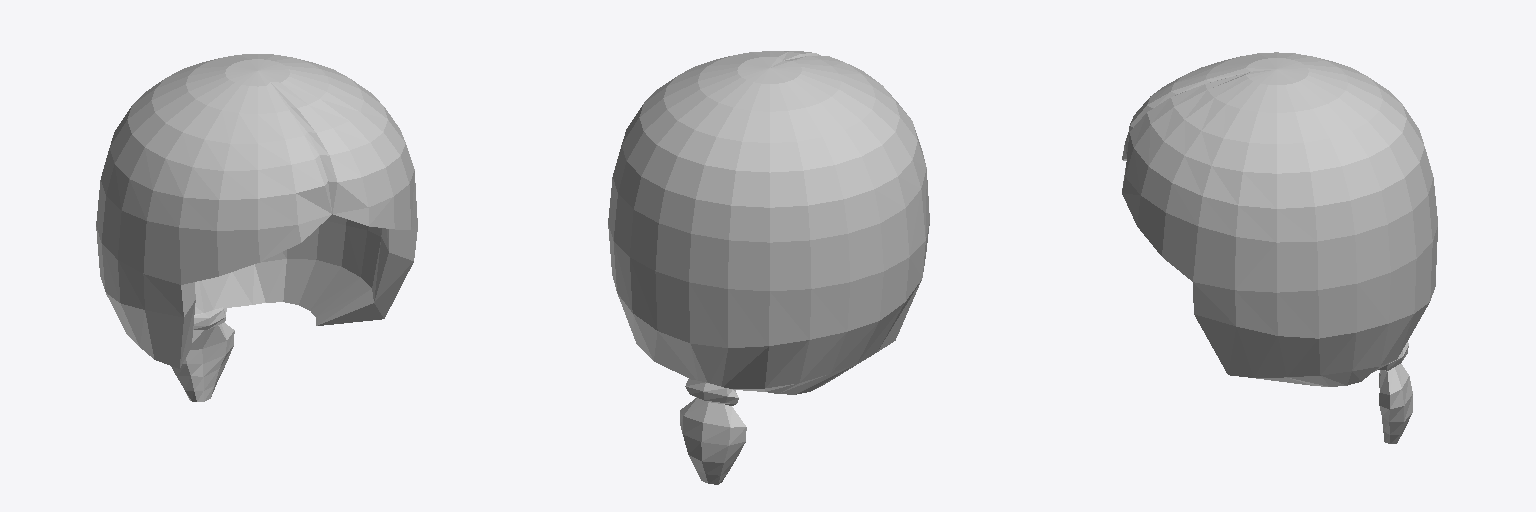
File: character_mageHair.obj
The picture shows the model from 3 angles: view 1: azimuth 30°, elevation 25°; view 2: azimuth 150°, elevation 25°; view 3: azimuth 270°, elevation 25°; orthographic projection.
Parts seen in each view (by area): view 1: character_mageHair_Cube.017; view 2: character_mageHair_Cube.017; view 3: character_mageHair_Cube.017.
Part boxes in pixels (left/top/right/bottom): character_mageHair_Cube.017: left=96, top=54, right=417, bottom=401; character_mageHair_Cube.017: left=608, top=51, right=929, bottom=484; character_mageHair_Cube.017: left=1122, top=52, right=1437, bottom=443.
Size of the model in its own units: 1.11 by 1.42 by 1.09.